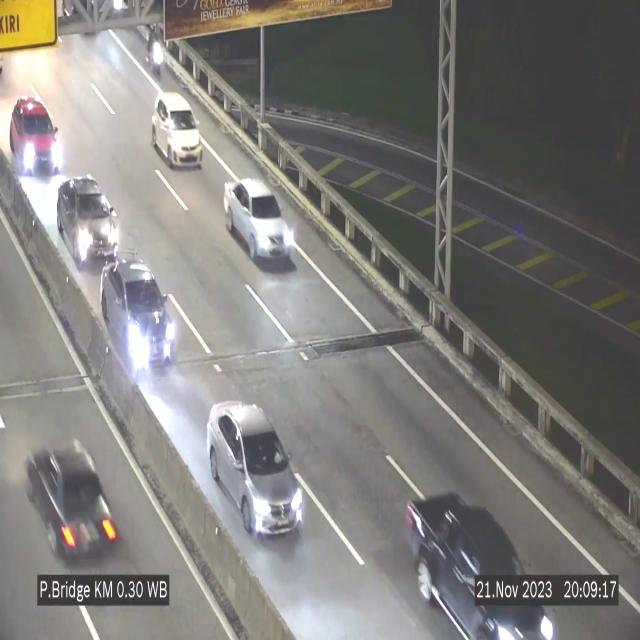Car: (402, 470, 554, 640), (19, 425, 121, 564), (207, 403, 303, 535), (96, 248, 176, 374), (56, 176, 124, 269), (224, 177, 292, 263), (11, 92, 63, 186), (152, 92, 202, 168)
Motorcycle: (144, 23, 167, 87)
